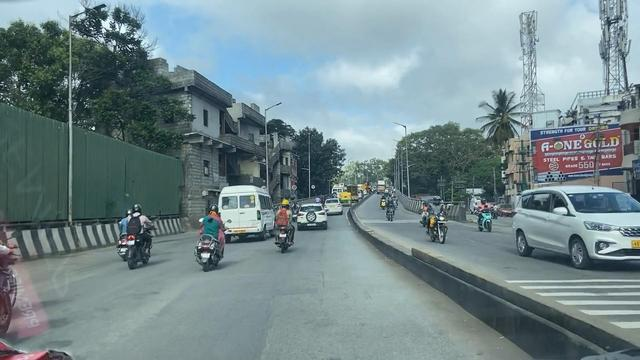HMV: (219, 184, 271, 242)
LMV: (126, 205, 159, 264), (193, 209, 227, 266), (275, 201, 294, 254), (297, 200, 326, 229)
UnsurfacedRoad: (259, 275, 321, 342)
